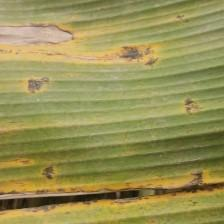pestalotiopsis: (0, 0, 224, 224)
